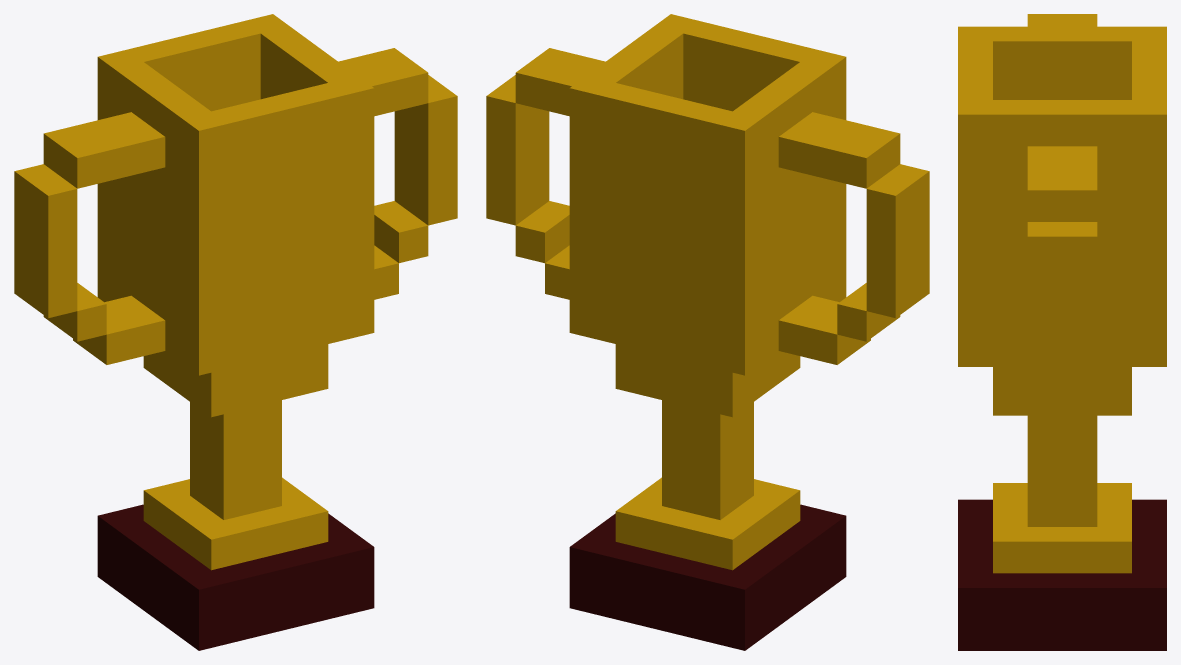
File: Trophy-3.obj
3 views of the same model, side by side, from view 1: azimuth 30°, elevation 25°; view 2: azimuth 150°, elevation 25°; view 3: azimuth 270°, elevation 25° (orthographic). The views are drawn at different scales.
Parts seen in each view (by area): view 1: Trophy-3; view 2: Trophy-3; view 3: Trophy-3.
Boxes of the visible parts, box(x1,y1,x2,y2) form: Trophy-3: box(14, 14, 457, 650); Trophy-3: box(486, 14, 929, 650); Trophy-3: box(958, 14, 1166, 650).
Size of the model in its own units: 14 by 17 by 6.
